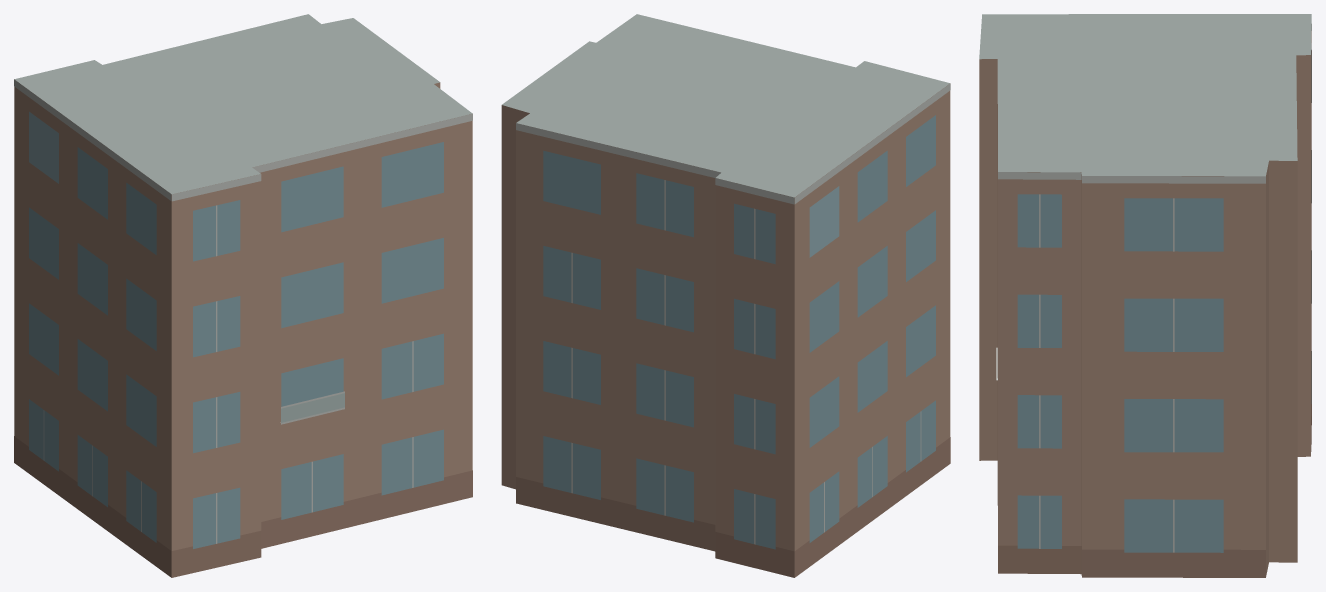
File: survey-upis-32774535.glb
3 renders of one model, left to right at view 1: azimuth 30°, elevation 25°; view 2: azimuth 150°, elevation 25°; view 3: azimuth 270°, elevation 25°, orthographic. The views are drawn at different scales.
Visible parts, largest first — view 1: survey-upis-32774535.tmp; view 2: survey-upis-32774535.tmp; view 3: survey-upis-32774535.tmp.
Boxes of the visible parts, bbox=[...] form: survey-upis-32774535.tmp: bbox=[14, 14, 472, 577]; survey-upis-32774535.tmp: bbox=[501, 14, 950, 577]; survey-upis-32774535.tmp: bbox=[979, 14, 1311, 577].
Size of the model in its own units: 11.36 by 13.1 by 9.84.
